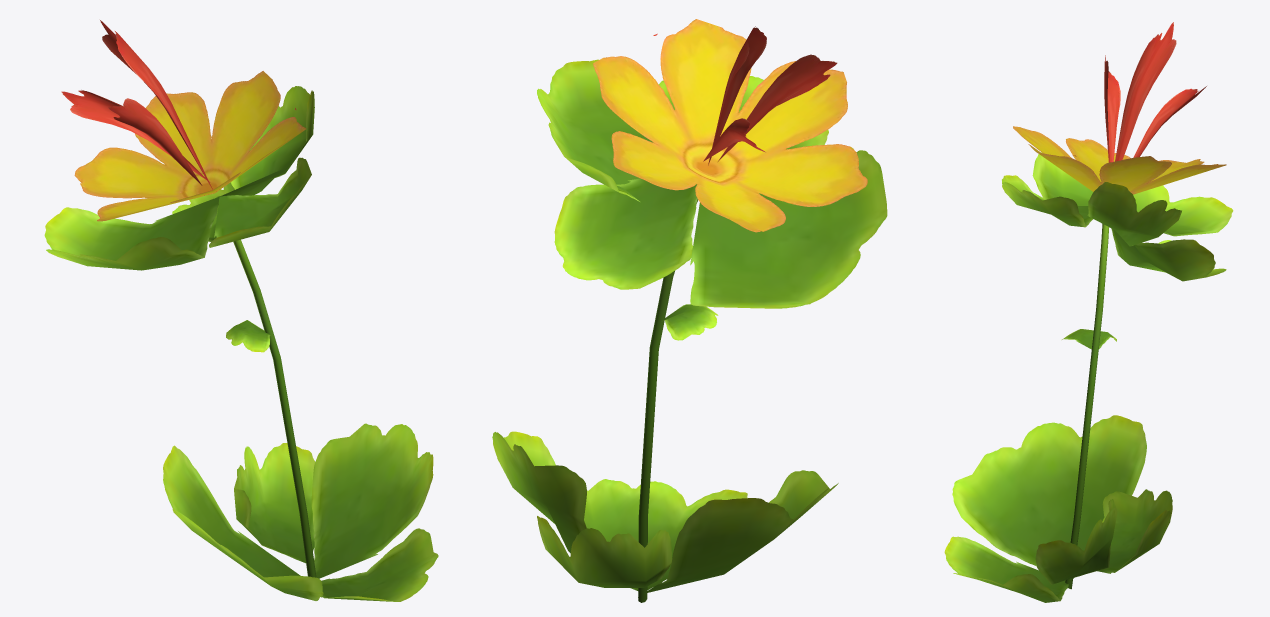
Rendered from nkflower7.glb.
3 renders of one model, left to right at view 1: azimuth 30°, elevation 25°; view 2: azimuth 150°, elevation 25°; view 3: azimuth 270°, elevation 25°, orthographic. The views are drawn at different scales.
Parts seen in each view (by area): view 1: Flower_7_Single; view 2: Flower_7_Single; view 3: Flower_7_Single.
Part boxes in pixels (<box>): Flower_7_Single: <box>44,20,438,601</box>; Flower_7_Single: <box>492,19,887,602</box>; Flower_7_Single: <box>944,22,1233,602</box>.
Bounding box in the file's own units: 1.04 × 1.58 × 0.9136.
2 materials, 2 textured.
